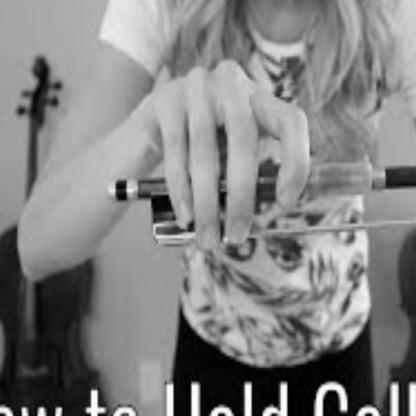good: (132, 50, 317, 253)
